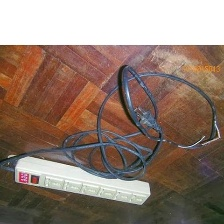three_eye_plug: (10, 152, 152, 208)
